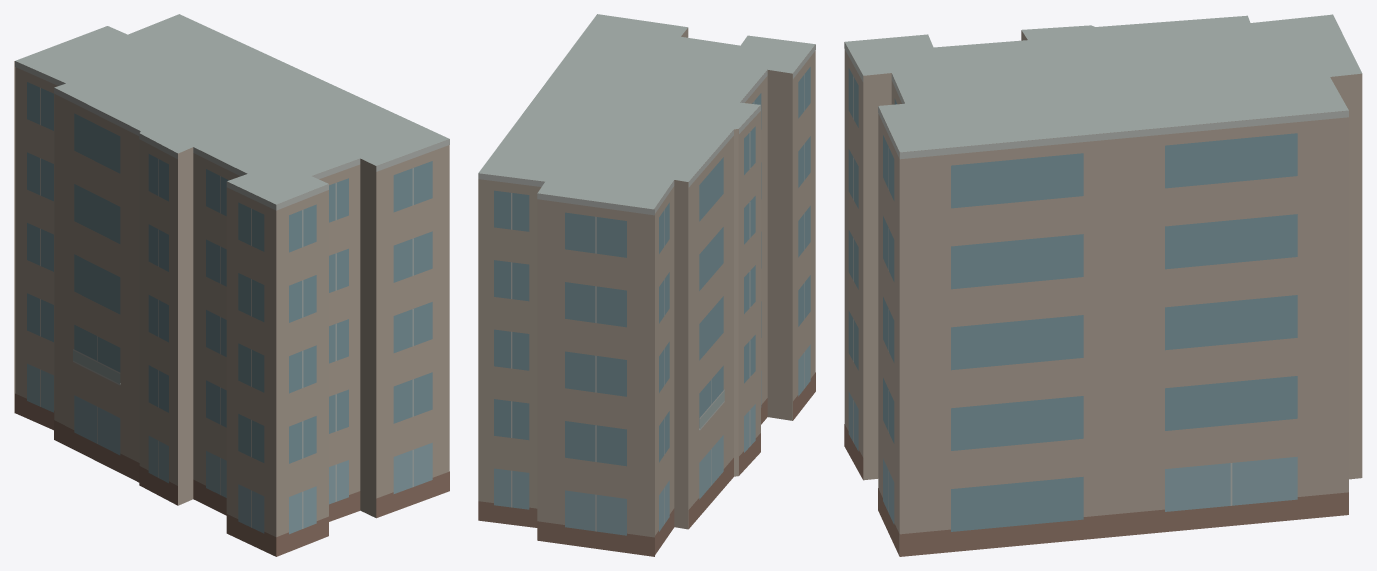
The model's file is survey-upis-32621702.glb.
The picture shows the model from 3 angles, left to right: view 1: azimuth 30°, elevation 25°; view 2: azimuth 150°, elevation 25°; view 3: azimuth 270°, elevation 25°; orthographic projection. The views are drawn at different scales.
Visible parts, largest first — view 1: survey-upis-32621702.tmp; view 2: survey-upis-32621702.tmp; view 3: survey-upis-32621702.tmp.
Boxes of the visible parts, <box> form: survey-upis-32621702.tmp: <box>14,14,449,556</box>; survey-upis-32621702.tmp: <box>478,14,815,556</box>; survey-upis-32621702.tmp: <box>844,14,1362,556</box>.
Size of the model in its own units: 10.62 by 14.45 by 16.78.
